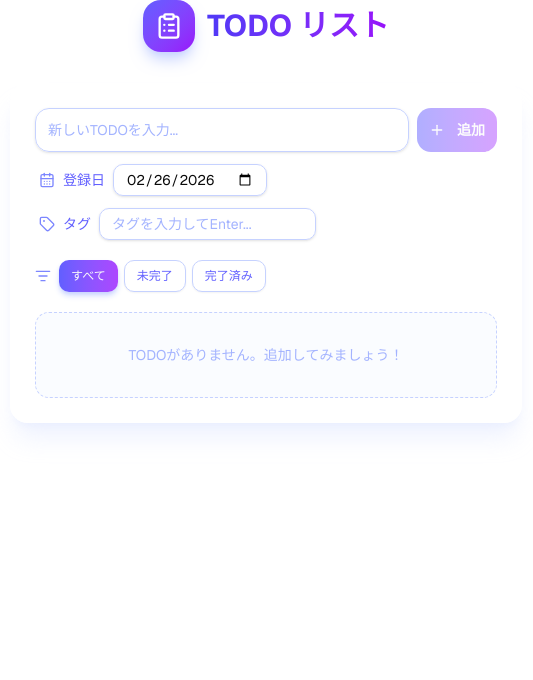
Test: TodoList › TODOを完了にすると進捗が更新される
This screenshot has width=533, height=680.
Type "タスク" into the field with placeholder "新しいTODOを入力..." at point(222, 130), box [35,108,409,152]
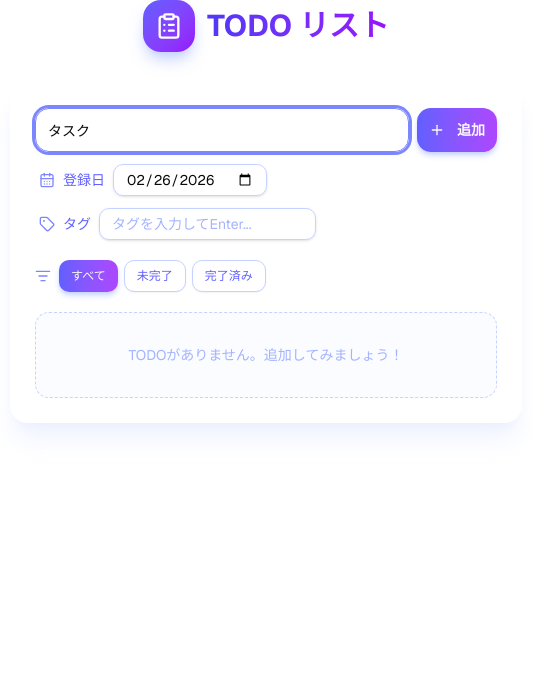
Click the button "追加" at point(457, 130), box [417,108,497,152]
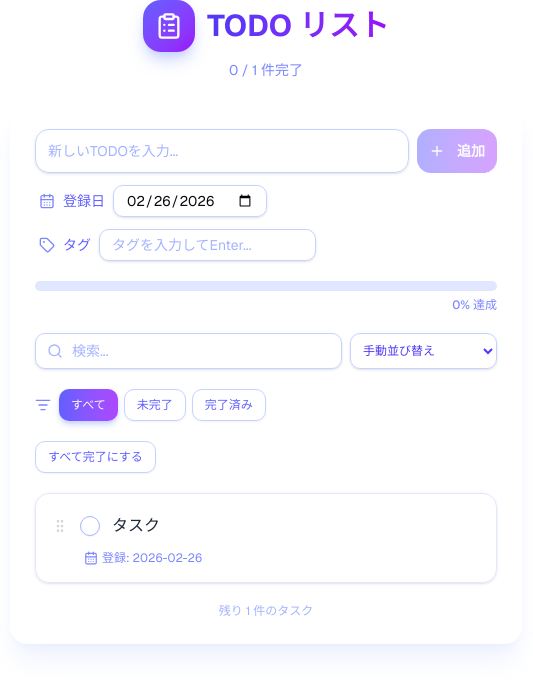
Click the checkbox at point(90, 526), box [80,516,100,536]
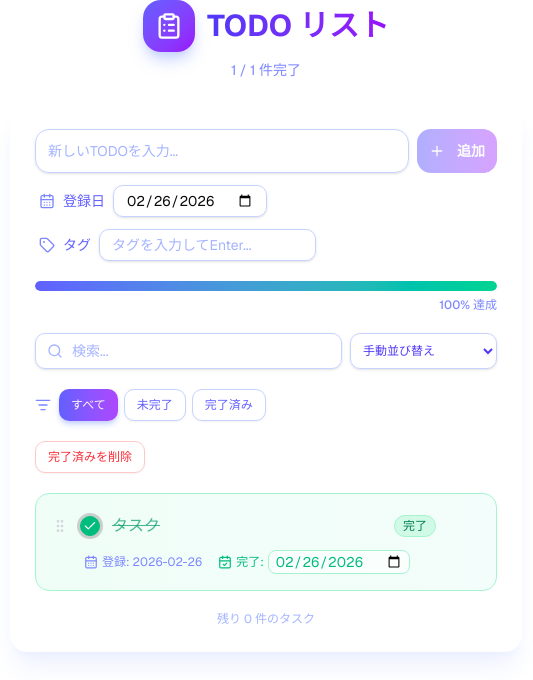
Expected: the text "1 / 1 件完了" is shown, [231,61,301,79]
Expected: the text "100% 達成" is shown, [439,297,497,313]
Expected: the text "残り 0 件のタスク" is shown, [217,611,315,627]
